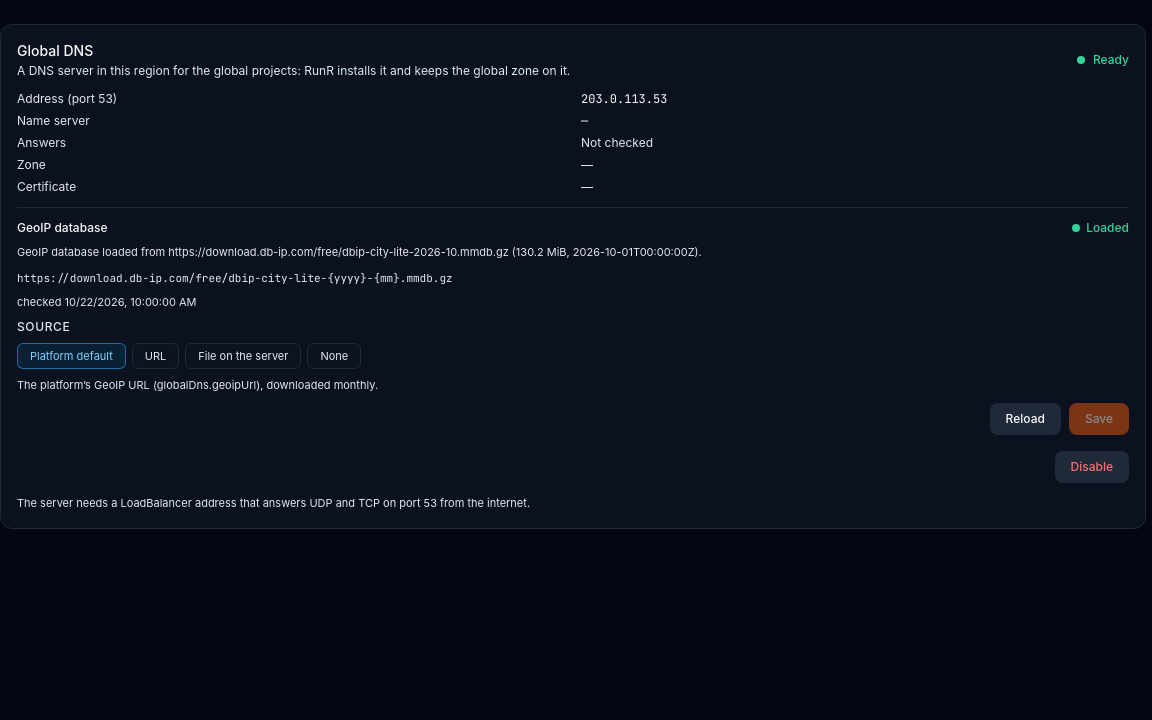
Region → Global DNS: GeoIP database › turns GeoIP off
The image size is (1152, 720).
Click the button "None": point(334, 356) left=307, top=343, right=361, bottom=369
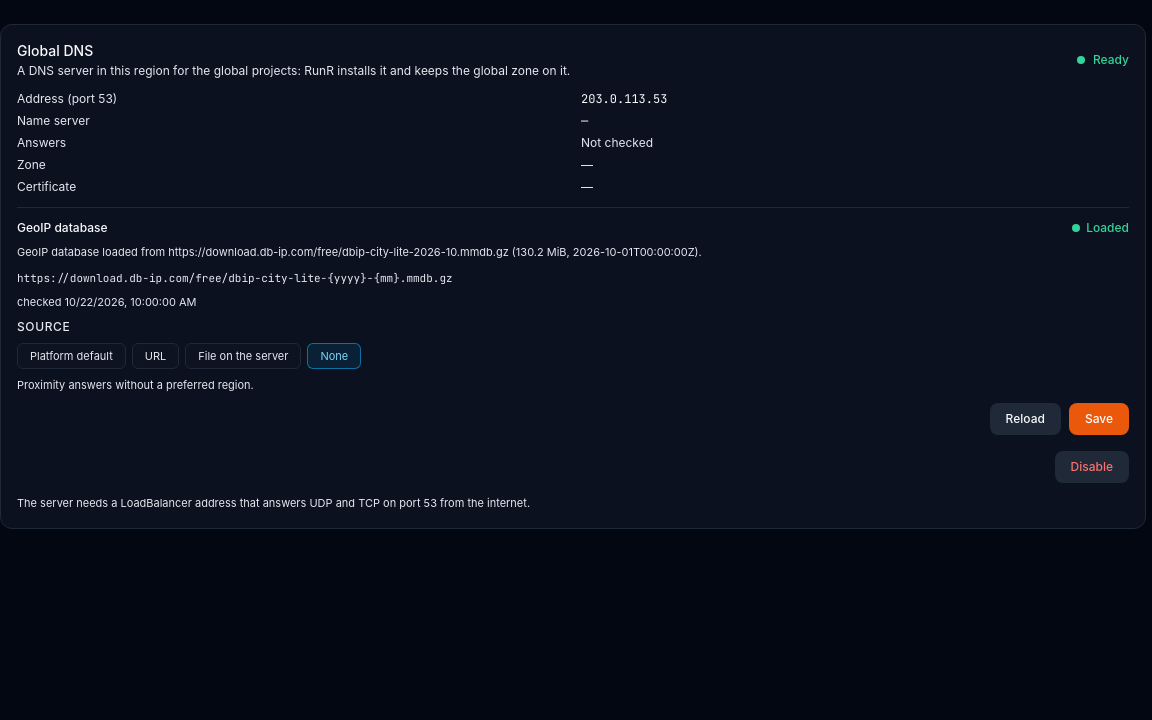
Click the button with test id "global-dns-geoip-save": point(1099, 419) left=1069, top=403, right=1129, bottom=435
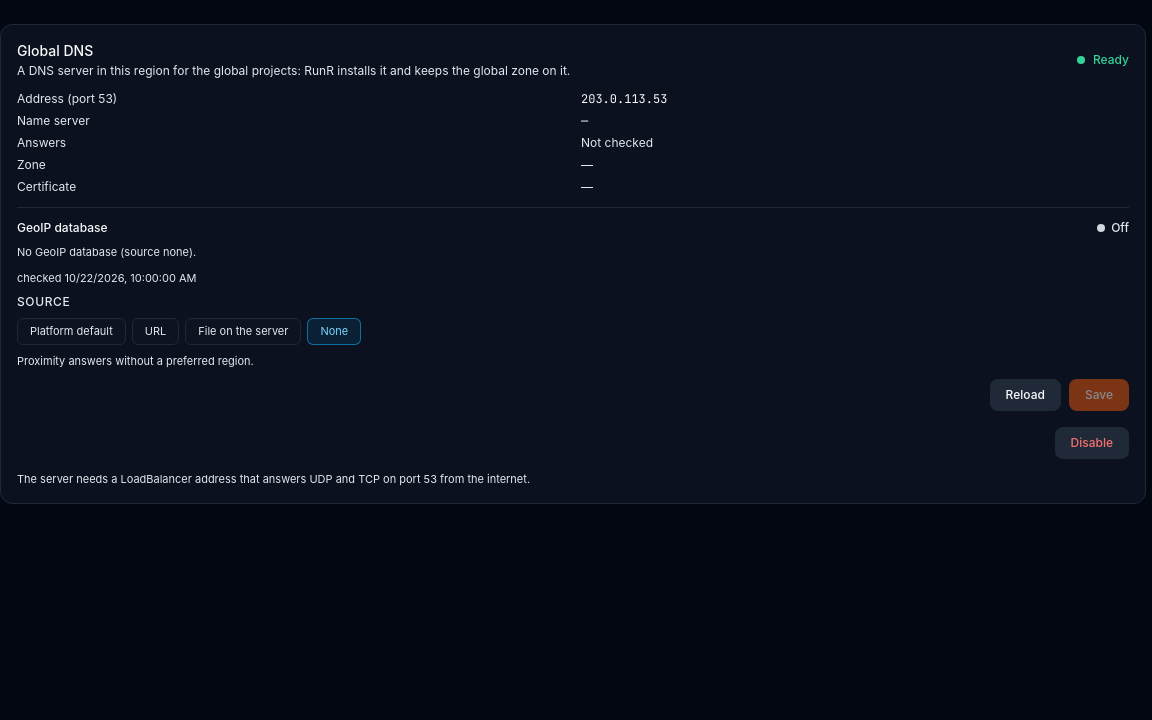
Now the text with test id "global-dns-geoip-status" reads "Off", box left=1111, top=220, right=1129, bottom=235
